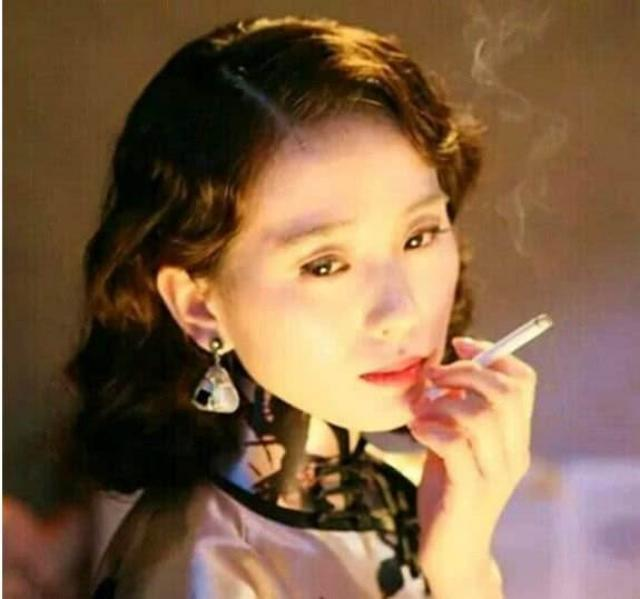SafeDriving: (284, 231, 363, 292), (388, 200, 453, 267)
Smoking: (458, 304, 554, 372)
